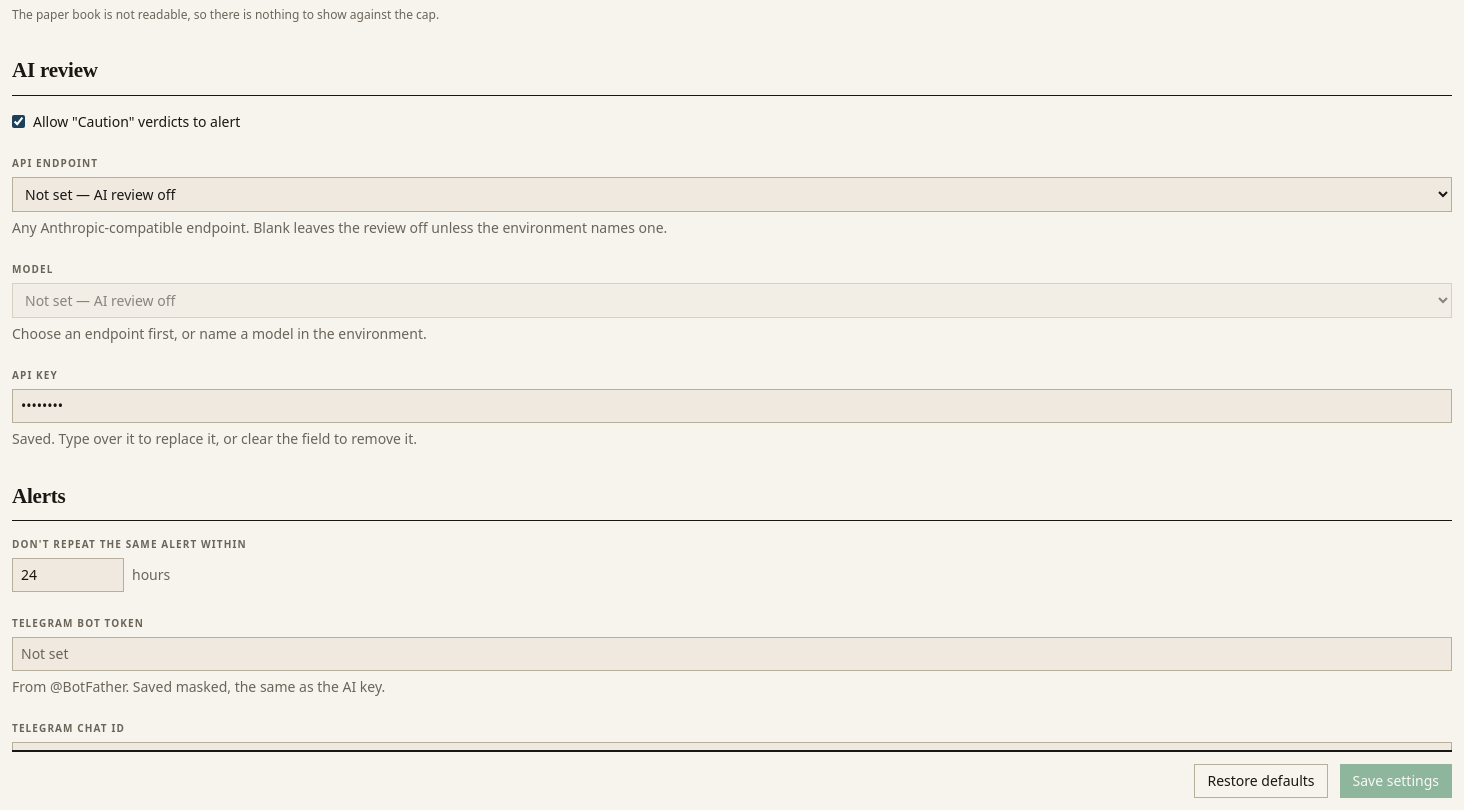
it: Settings · credentials › stops saying Saved once the field is cleared
This screenshot has width=1464, height=810.
(page scrolled)
Clear the password field labelled "API key" at (732, 406), box [12, 389, 1452, 423]
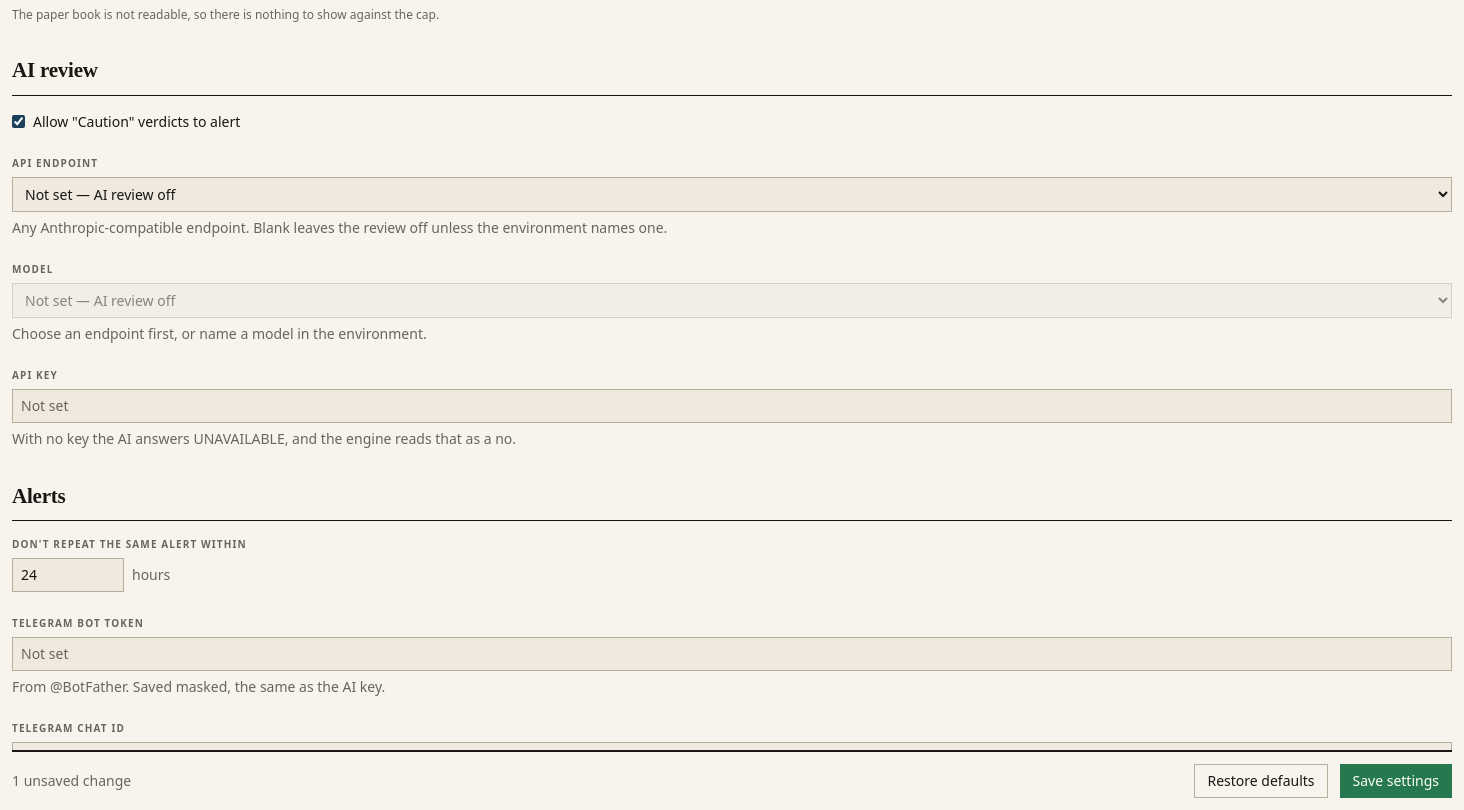
Check: the text "With no key the AI answers UNAVAILABLE" is shown, box [12, 429, 516, 448]
Check: the text "Saved. Type over it" is gone
